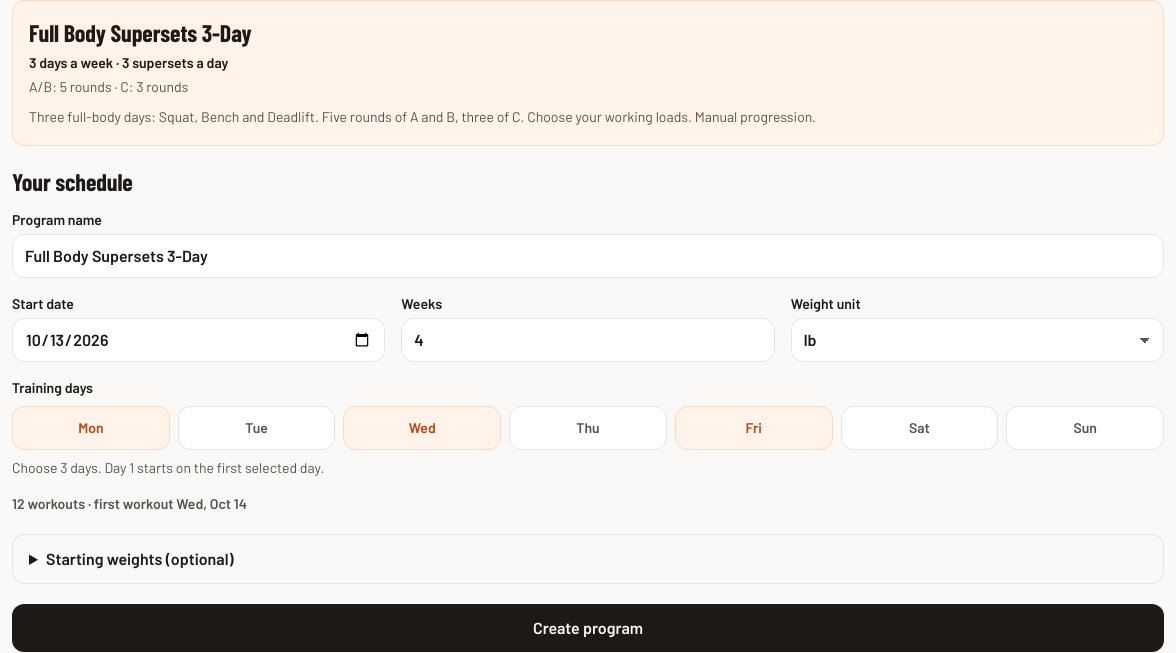
it: SimpleProgramSetup › requires exactly three weekdays and focuses a retained schedule error
Click the button with aria-label "Monday".
click(91, 428)  # box [12, 406, 170, 450]
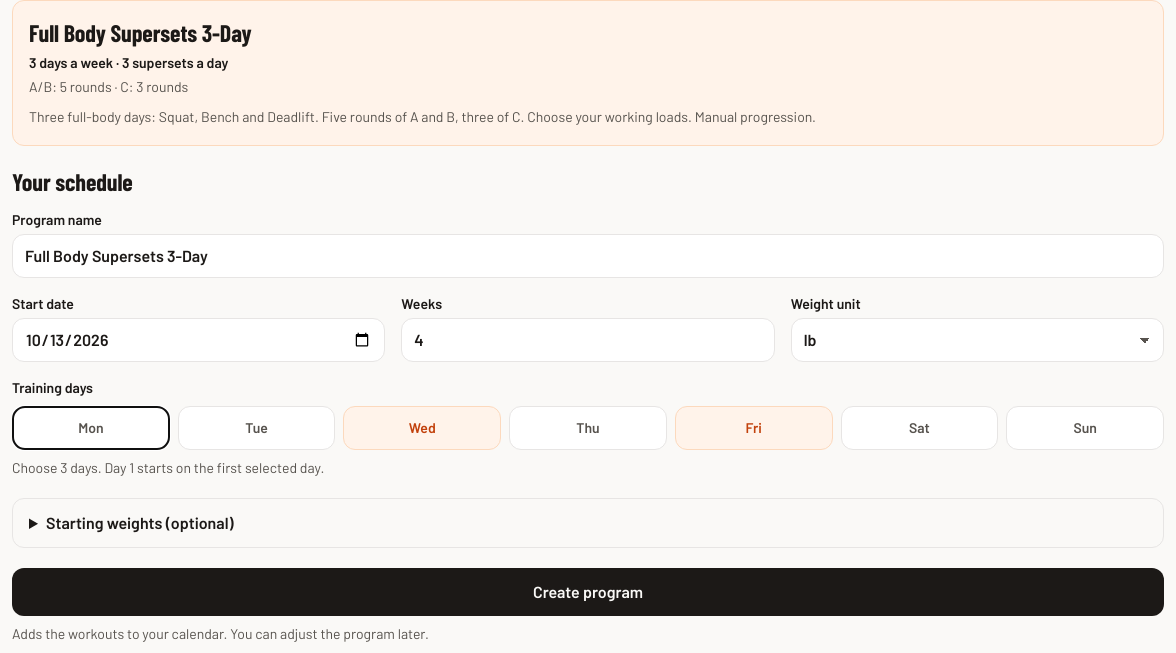
Click the button "Create program".
click(588, 592)  # box [12, 568, 1164, 616]
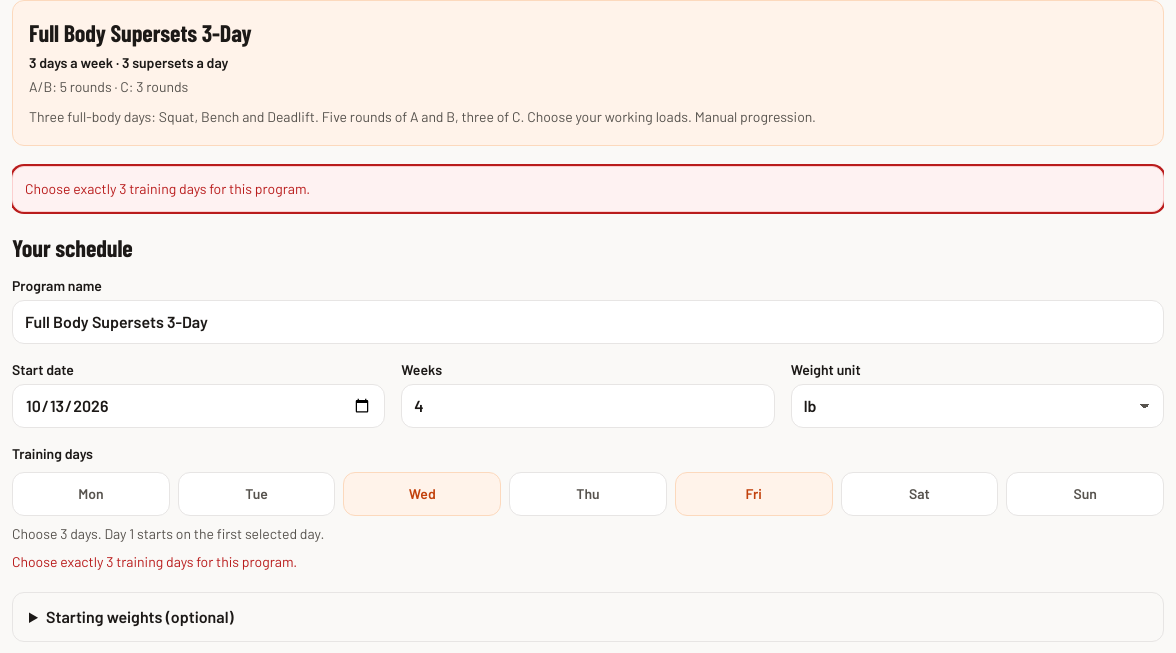
Check: the field labelled "Program name" holds "Full Body Supersets 3-Day", box [12, 300, 1164, 344]
Check: the message shows "Choose exactly 3 training days", box [25, 180, 310, 197]
